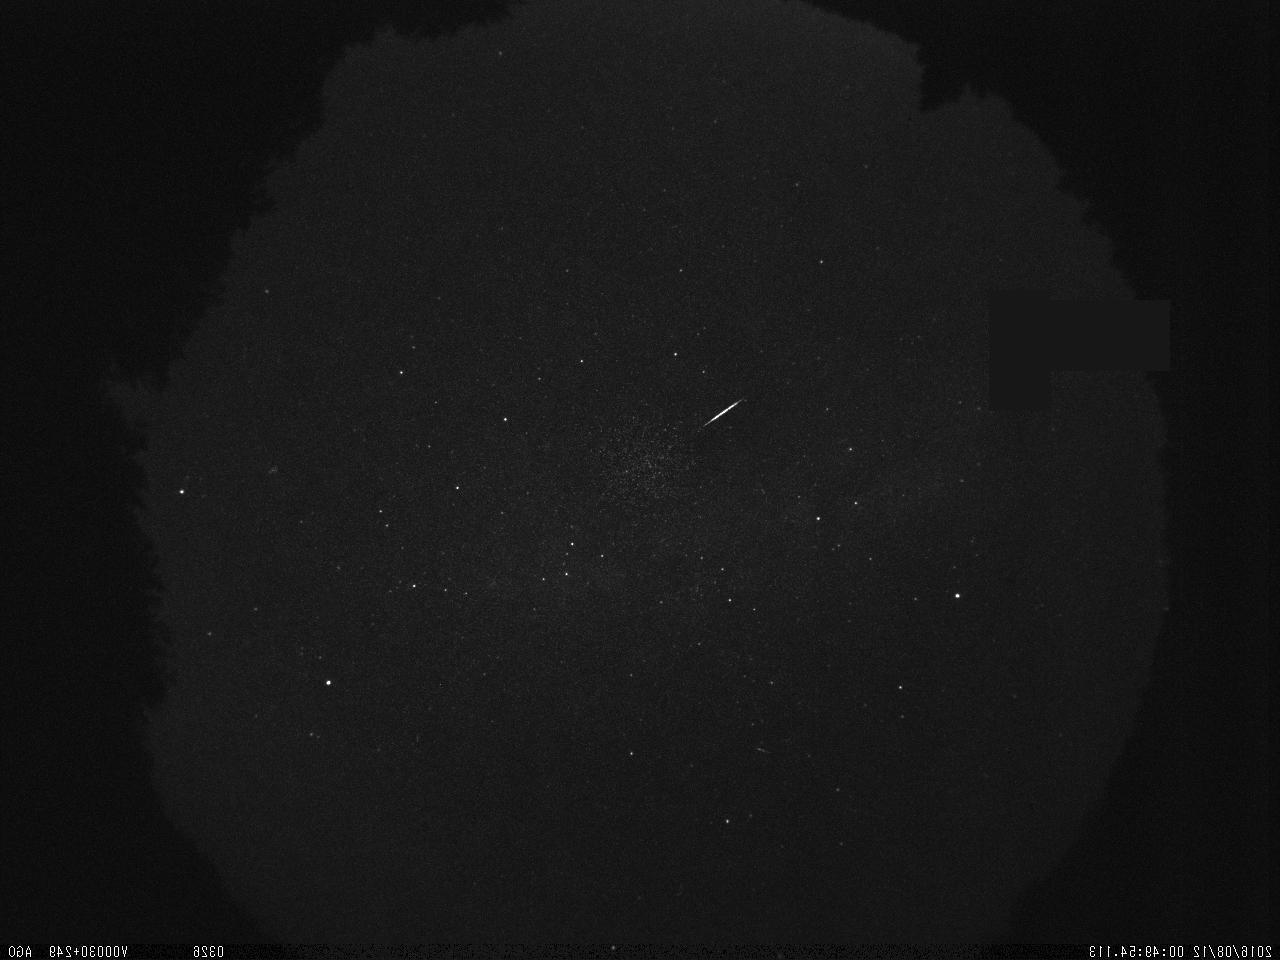meteor: (694, 383, 754, 449)
